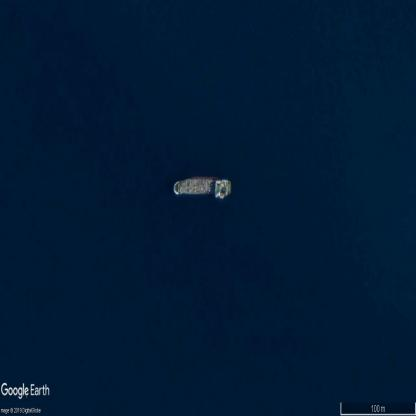ship: (174, 177, 233, 200)
